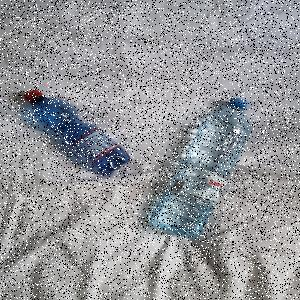Plastic-bottle: (149, 98, 255, 242), (24, 90, 134, 178)
